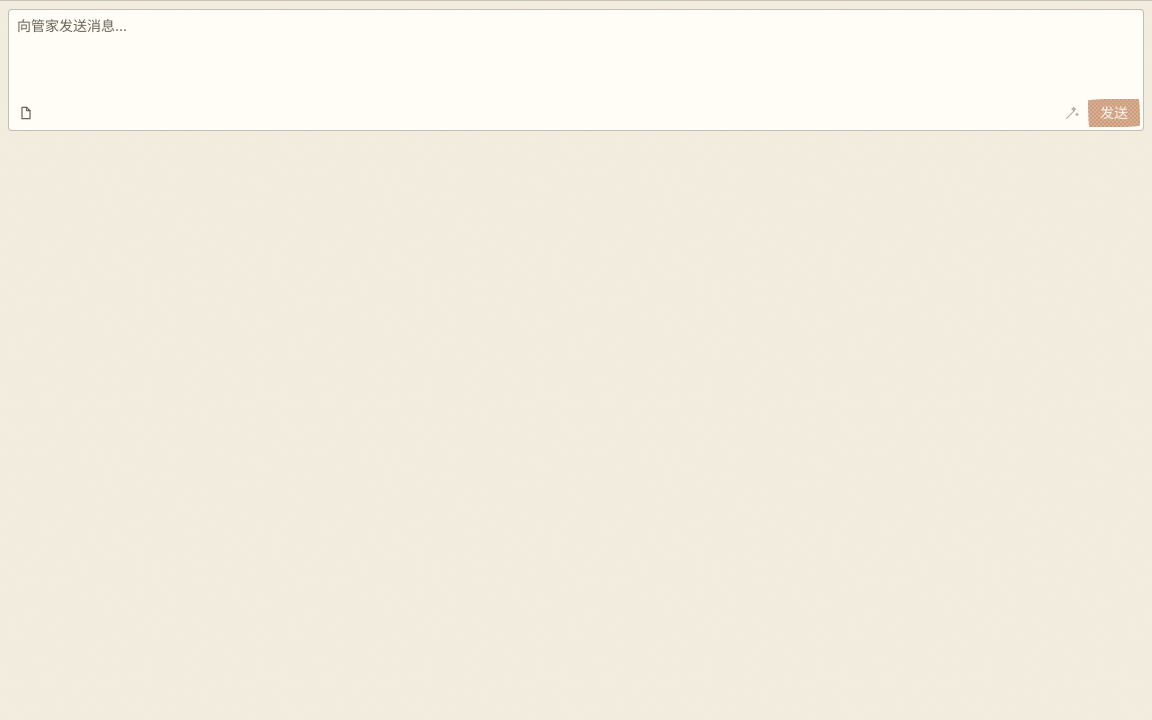
Scenario: StewardComposer — AI optimize (task 4.7, session-generic IPC) › discard keeps the original draft
This screenshot has width=1152, height=720.
Type "帮我诊断" into the text box with placeholder "向管家发送消息...".
click(576, 70); type("帮我诊断")  # box [8,9,1144,131]
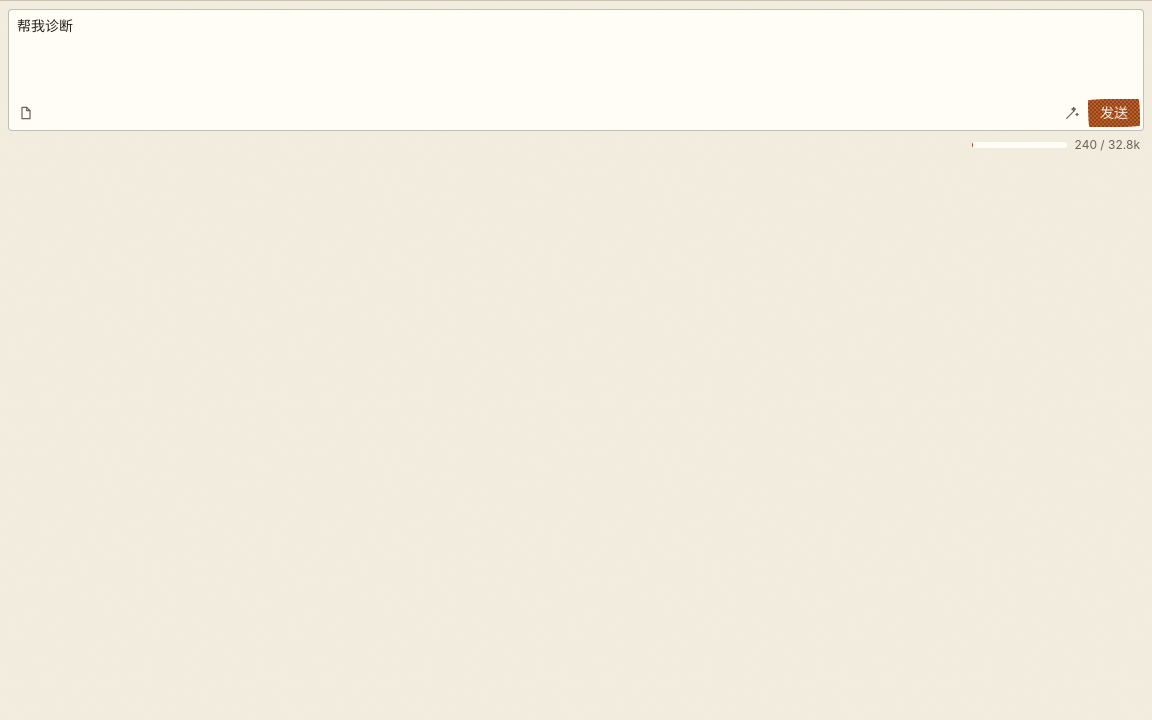
Click the button named "AI 优化提示词".
click(1072, 113)  # box [1058,99,1086,127]
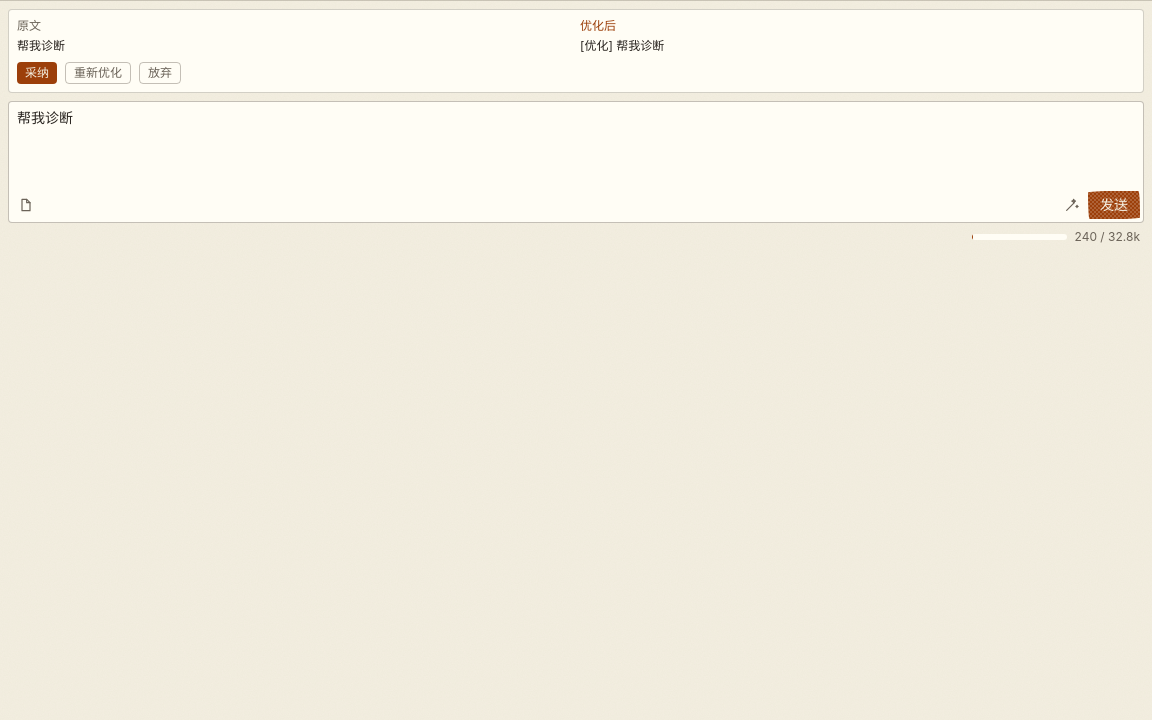
Now the dialog named "提示词优化对比" is shown, box [8,9,1144,93]
Click the button "放弃".
click(160, 73)  # box [139,62,181,84]
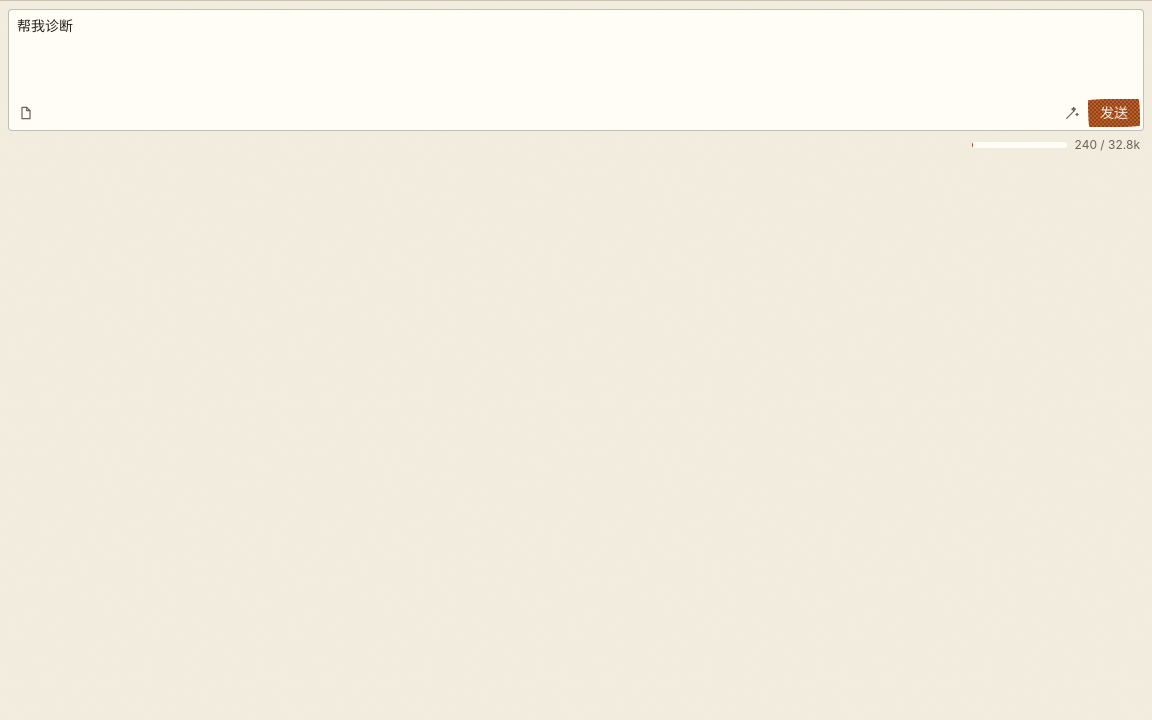
Now the dialog "提示词优化对比" is gone
